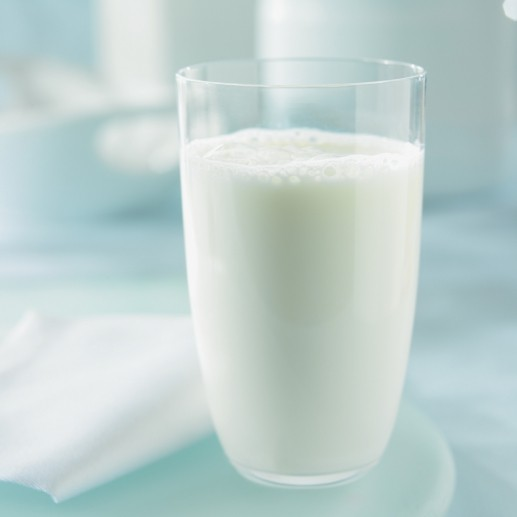glass of milk: (183, 83, 411, 476)
